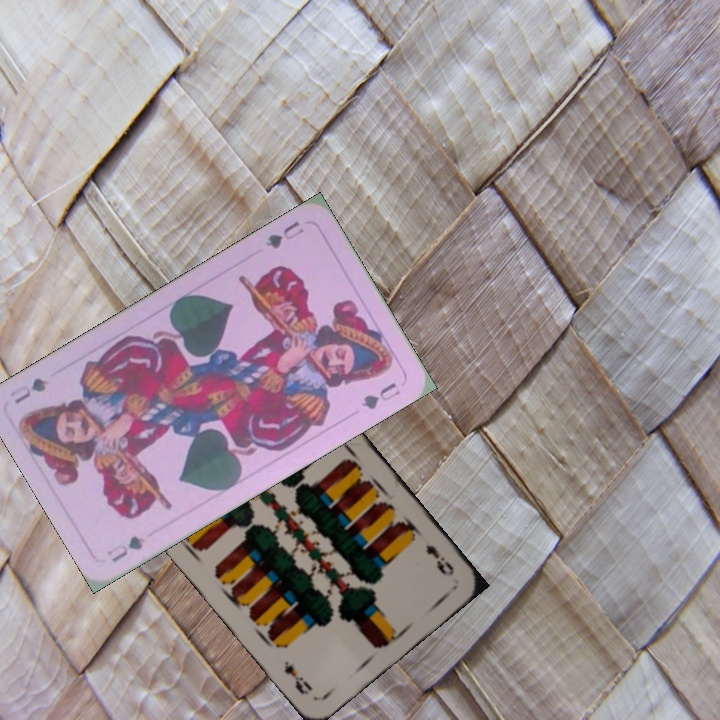E9: (421, 540, 457, 579)
GU: (261, 216, 307, 252), (102, 531, 148, 565)
